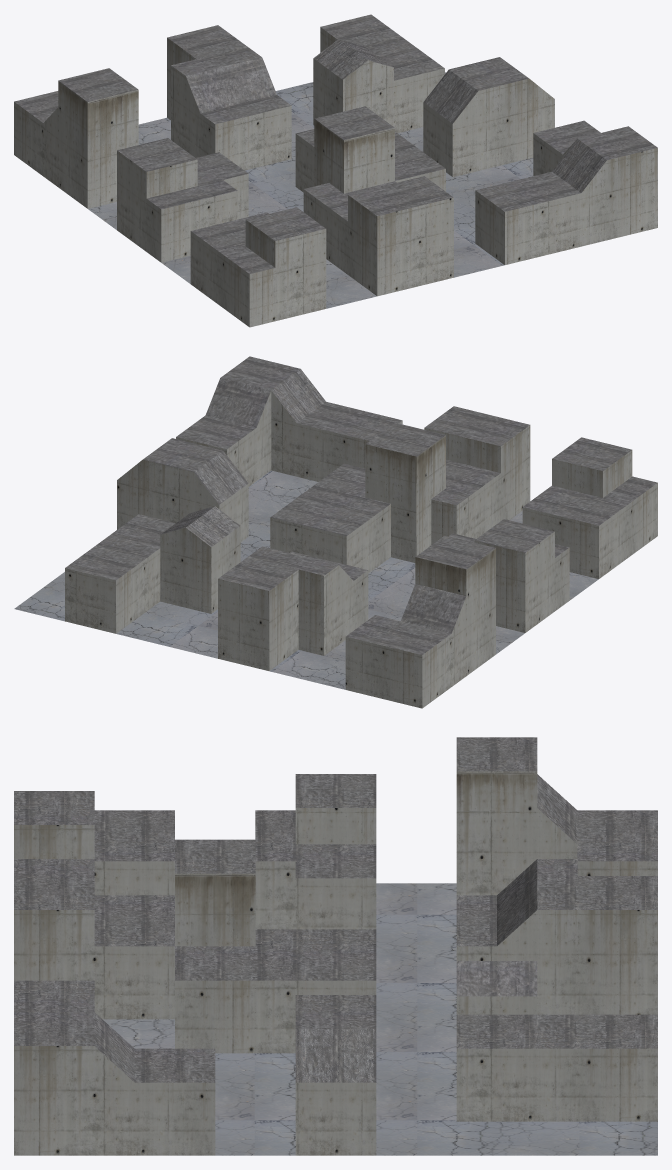
The model's file is tile1.fbx.
The picture shows the model from 3 angles, top to bottom: view 1: azimuth 30°, elevation 25°; view 2: azimuth 150°, elevation 25°; view 3: azimuth 270°, elevation 25°; orthographic projection. The views are drawn at different scales.
Parts seen in each view (by area): view 1: Plane; view 2: Plane; view 3: Plane.
Boxes of the visible parts, x1,y1,x2,y2 form: Plane: [14, 14, 657, 327]; Plane: [14, 356, 657, 708]; Plane: [14, 737, 657, 1155].
Bounding box in the file's own units: 1600 × 400 × 1600.
